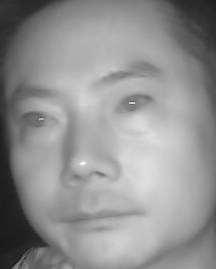eye: (17, 108, 59, 133), (112, 93, 155, 115)
mouth: (57, 199, 146, 241)
